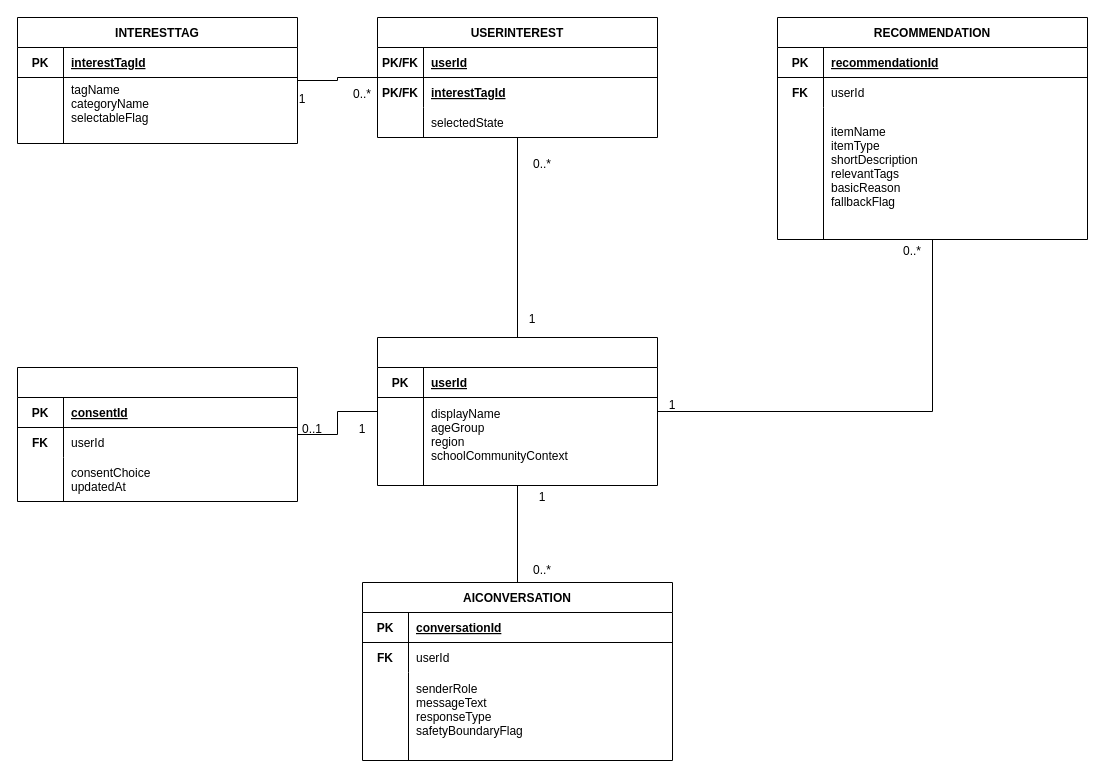
Image size: 1105x778. Some labels were removed from this diagram. The shapes that lost their labels are listed below. From the top down, each one's box as (x1, y1, x2, y2) in pixels, then its label:
(376, 336, 658, 486): USERPROFILE
(16, 366, 298, 502): AIDATACONSENT
